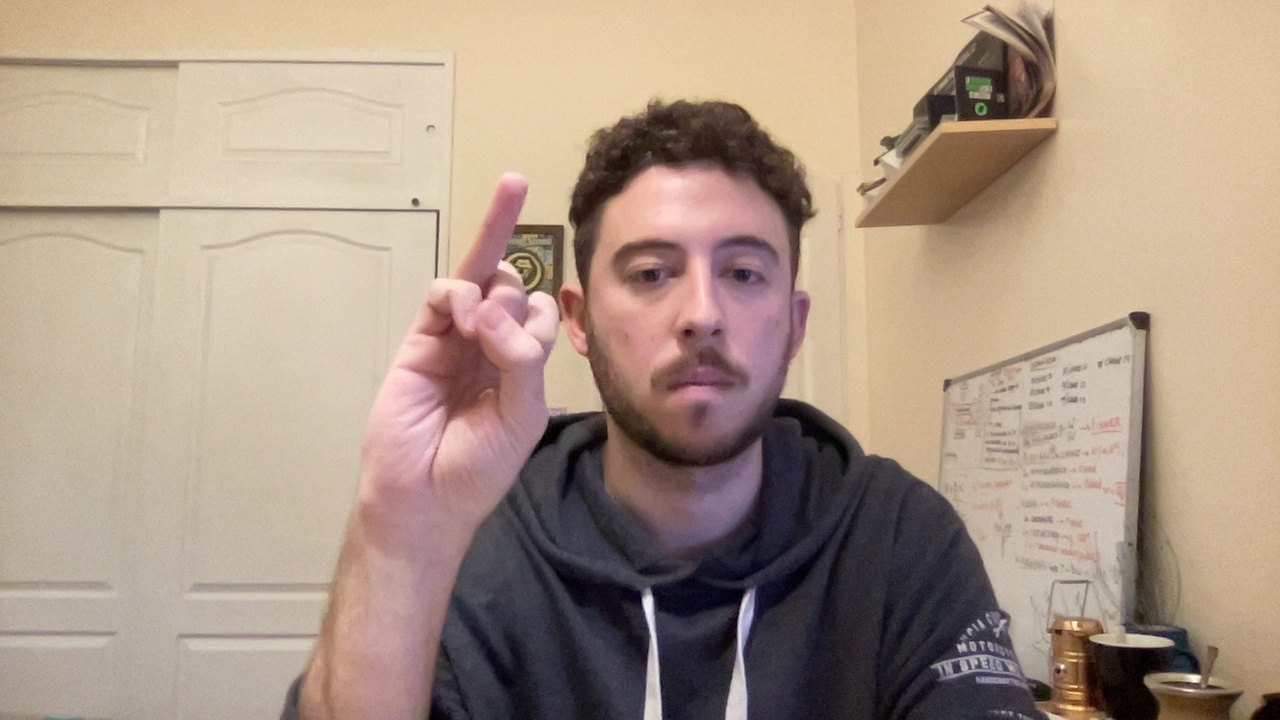anular: (331, 163, 578, 513)
